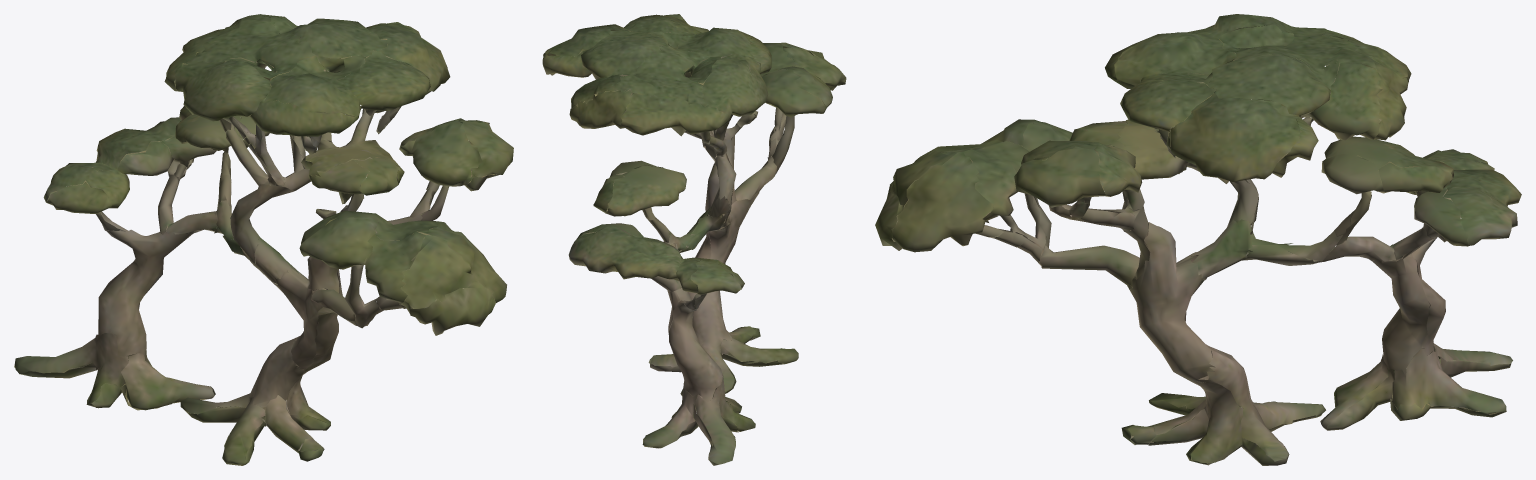
Rendered from forest_tree_branching_01_lod0.glb.
3 renders of one model, left to right at view 1: azimuth 30°, elevation 25°; view 2: azimuth 150°, elevation 25°; view 3: azimuth 270°, elevation 25°, orthographic. The views are drawn at different scales.
Visible parts, largest first — view 1: candidate_009_lod0; view 2: candidate_009_lod0; view 3: candidate_009_lod0.
Part boxes in pixels (x1,y1,x2,y2): candidate_009_lod0: [14, 14, 513, 465]; candidate_009_lod0: [542, 14, 846, 465]; candidate_009_lod0: [875, 14, 1521, 465].
Bounding box in the file's own units: 0.1902 × 0.2141 × 0.2974.
Materials: 1 (1 with a texture image).
